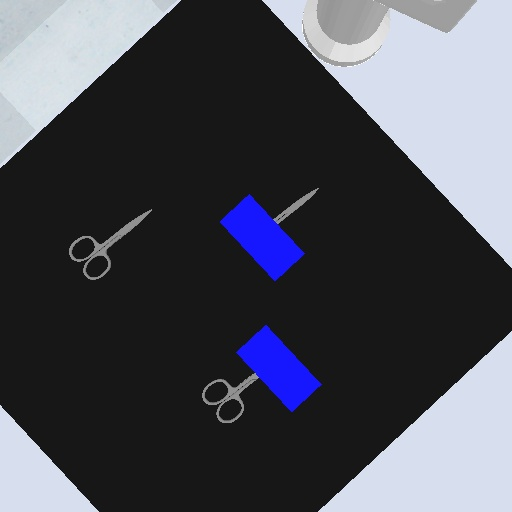tijera: (67, 207, 154, 283), (199, 371, 262, 426), (270, 186, 321, 227)
